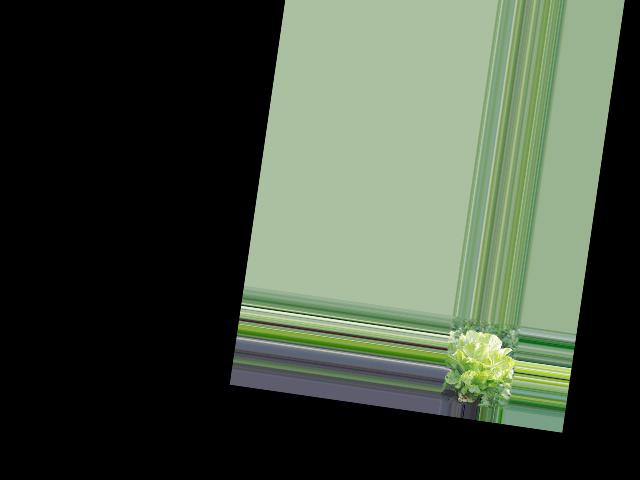lettuce: (443, 328, 511, 395)
